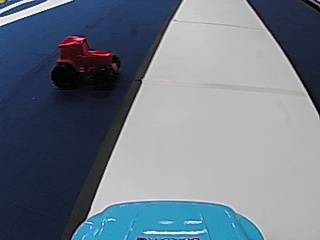tractor: (50, 32, 121, 91)
